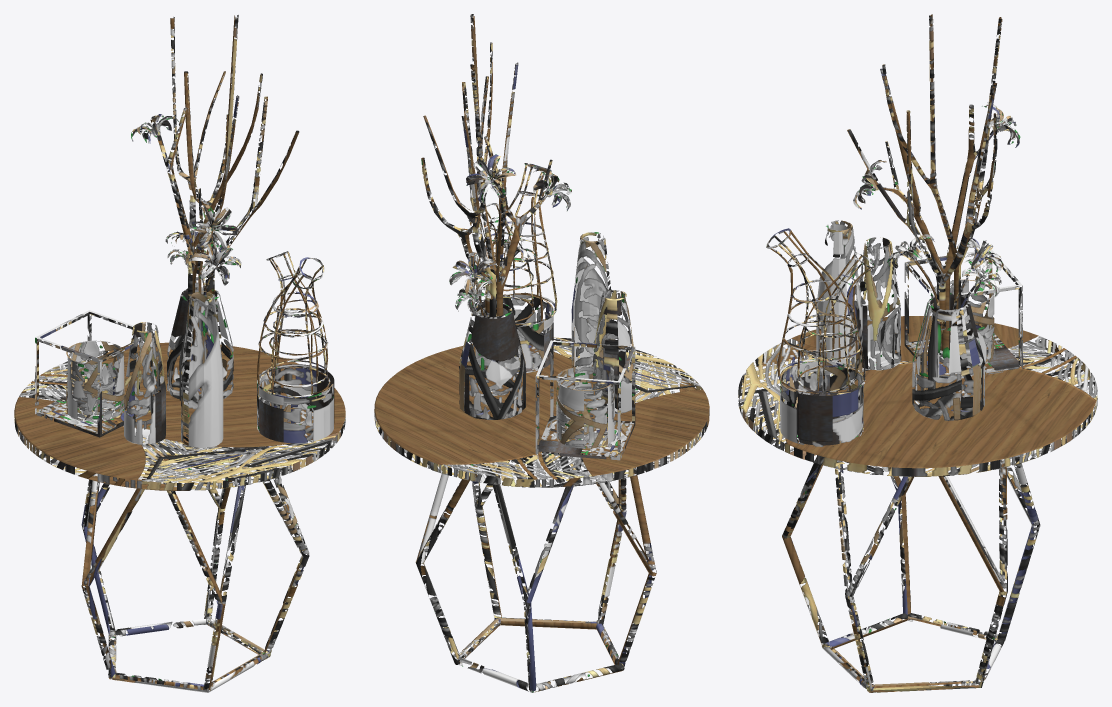
File: raw_model.obj
3 renders of one model, left to right at view 1: azimuth 30°, elevation 25°; view 2: azimuth 150°, elevation 25°; view 3: azimuth 270°, elevation 25°, orthographic. The views are drawn at different scales.
Visible parts, largest first — view 1: solid_002, solid_001, solid_007, solid_003, solid_004, solid_006, solid_009, glass_001, solid_008, solid_011; view 2: solid_002, solid_001, solid_003, solid_007, glass_001, solid_011, solid_004, solid_008, solid_009, solid_006; view 3: solid_002, solid_001, solid_003, solid_007, solid_006, solid_009, solid_004, solid_008, solid_011, glass_001.
Part boxes in pixels (box(x1,y1,x2,y2)): solid_002: box(14, 342, 345, 490); solid_001: box(81, 415, 309, 692); solid_007: box(157, 15, 299, 343); solid_003: box(124, 287, 233, 444); solid_004: box(181, 291, 223, 448); solid_006: box(257, 364, 334, 443); solid_009: box(257, 251, 330, 398); glass_001: box(66, 340, 124, 422); solid_008: box(131, 114, 241, 285); solid_011: box(35, 310, 154, 437); solid_002: box(374, 337, 709, 487); solid_001: box(415, 440, 656, 692); solid_003: box(459, 290, 635, 419); solid_007: box(421, 14, 552, 316); glass_001: box(556, 366, 614, 448); solid_011: box(535, 340, 635, 460); solid_004: box(571, 232, 613, 385); solid_008: box(449, 154, 571, 314); solid_009: box(471, 163, 557, 325); solid_006: box(475, 294, 553, 373); solid_002: box(738, 316, 1097, 476); solid_001: box(782, 361, 1040, 692); solid_003: box(855, 237, 985, 420); solid_007: box(847, 14, 1002, 350); solid_006: box(780, 361, 863, 446); solid_009: box(766, 228, 875, 394); solid_004: box(816, 220, 862, 391); solid_008: box(853, 102, 1020, 297); solid_011: box(904, 249, 1022, 378); glass_001: box(931, 279, 994, 367).
Bounding box in the file's own units: 0.78 × 1.62 × 0.78.
Materials: 1 (1 with a texture image).
